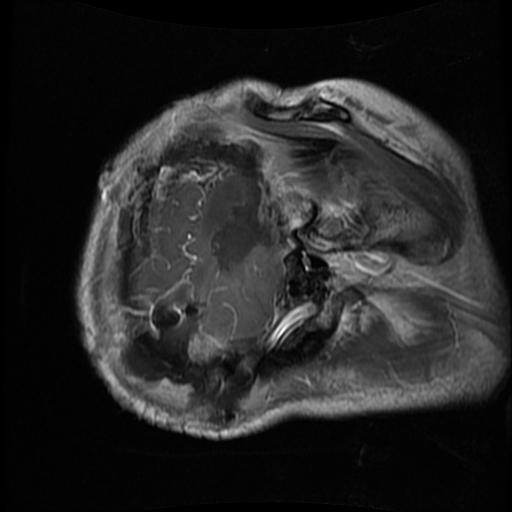glioma: (123, 305, 254, 407)
